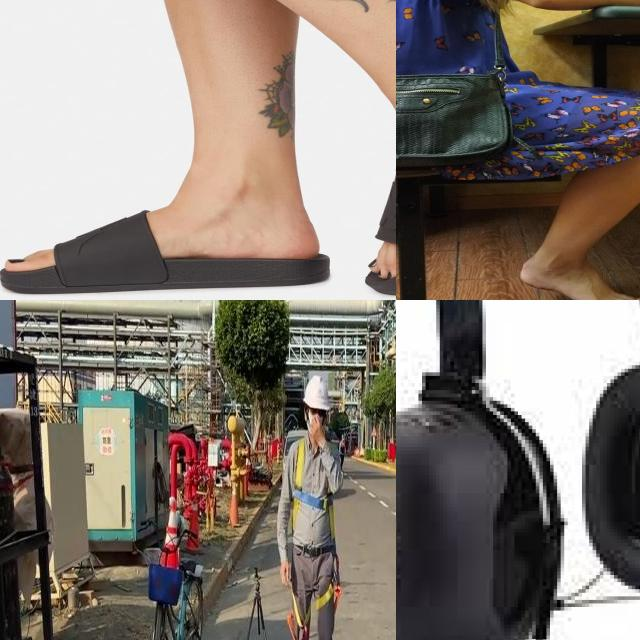Barefoots: (520, 256, 640, 300)
Ear-protection: (396, 386, 560, 640)
Harness: (292, 439, 335, 542), (287, 590, 311, 640)
Sandals: (0, 184, 332, 294)
